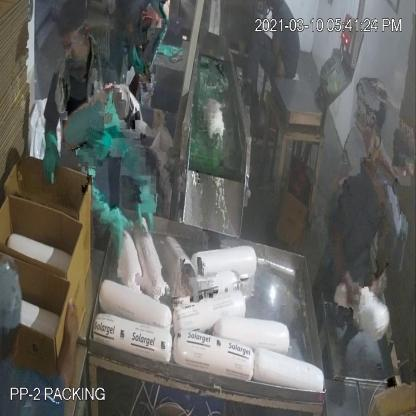glove: (39, 124, 66, 183)
no_glove: (329, 216, 366, 315)
